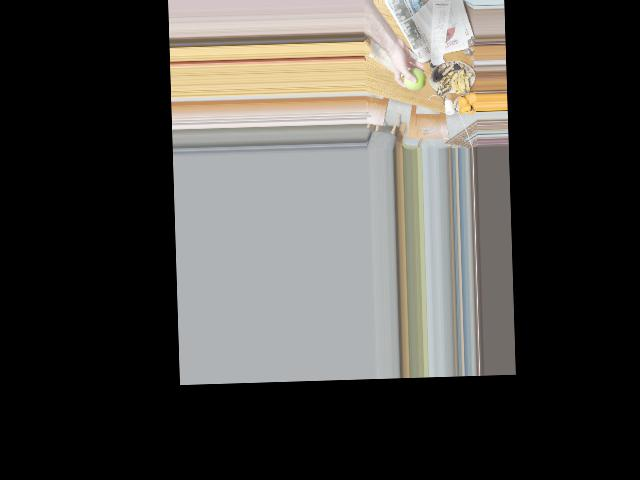apple: (403, 65, 426, 93)
